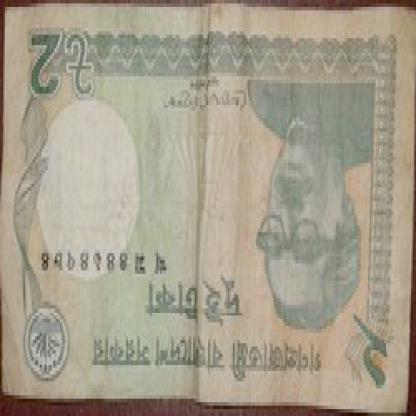two taka: (20, 24, 88, 104), (353, 305, 396, 402)
